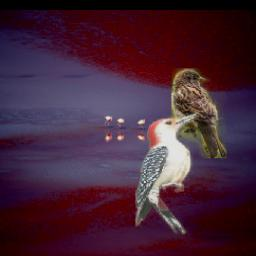Sparrow: (171, 69, 226, 159)
Woodpecker: (135, 112, 201, 234)
